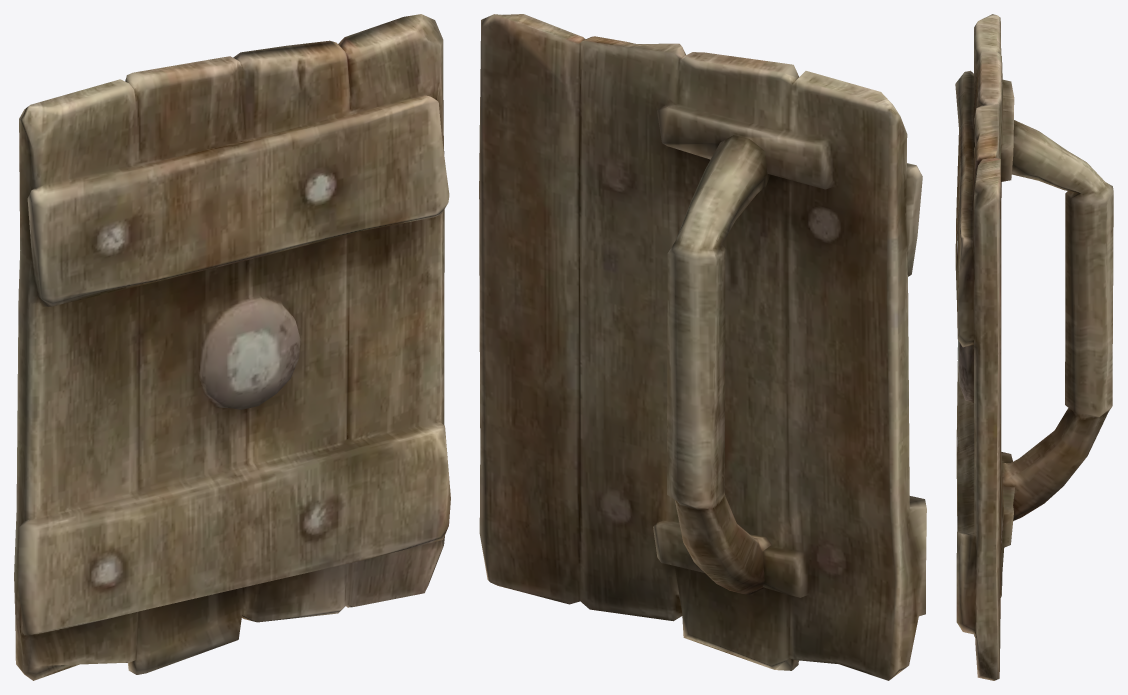
The picture shows the model from 3 angles, left to right: view 1: azimuth 30°, elevation 25°; view 2: azimuth 150°, elevation 25°; view 3: azimuth 270°, elevation 25°; orthographic projection. The views are drawn at different scales.
Parts seen in each view (by area): view 1: SM_DummyShield_1H_01_LOD0; view 2: SM_DummyShield_1H_01_LOD0; view 3: SM_DummyShield_1H_01_LOD0.
Part boxes in pixels (x1,y1,x2,y2): SM_DummyShield_1H_01_LOD0: (14,14,450,680); SM_DummyShield_1H_01_LOD0: (479,14,926,680); SM_DummyShield_1H_01_LOD0: (955,14,1113,680).
Size of the model in its own units: 0.3753 by 0.4975 by 0.1371.
1 material, 1 textured.
